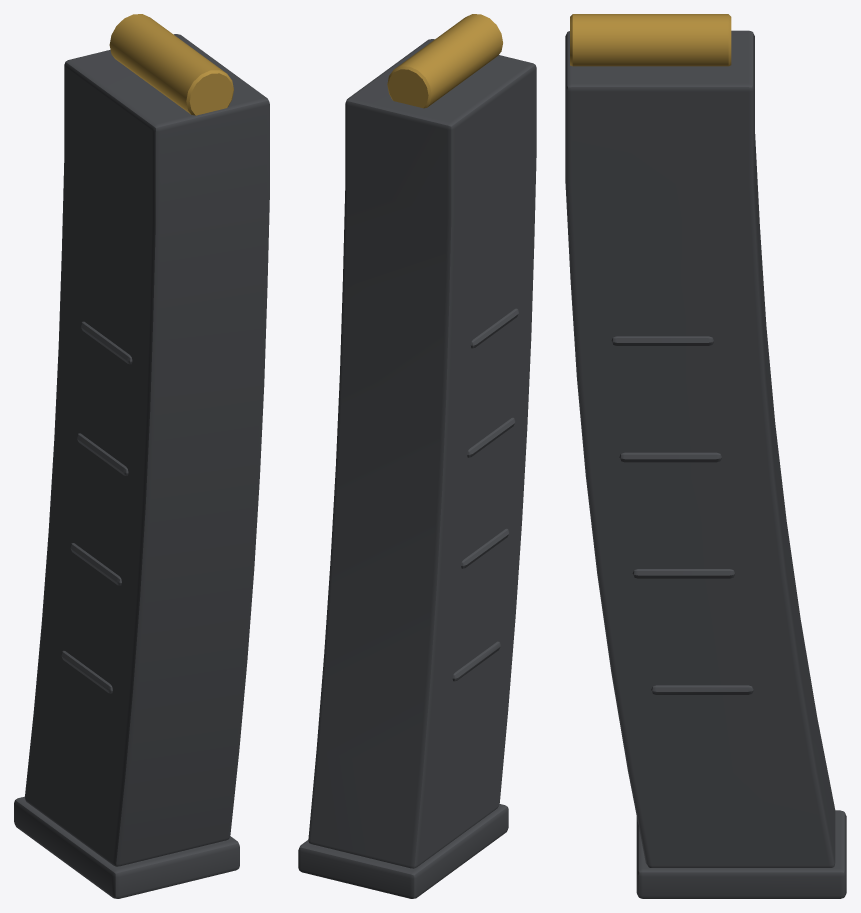
The model's file is mod_bastion_extended_mag.glb.
3 renders of one model, left to right at view 1: azimuth 30°, elevation 25°; view 2: azimuth 150°, elevation 25°; view 3: azimuth 270°, elevation 25°, orthographic. The views are drawn at different scales.
Parts seen in each view (by area): view 1: Magazine, MagazineRound; view 2: Magazine, MagazineRound; view 3: Magazine, MagazineRound.
Boxes of the visible parts, box(x1,y1,x2,y2) form: Magazine: box(14, 34, 269, 898); MagazineRound: box(109, 14, 233, 115); Magazine: box(298, 39, 536, 898); MagazineRound: box(387, 14, 502, 108); Magazine: box(565, 30, 846, 898); MagazineRound: box(570, 14, 731, 66).
Bounding box in the file's own units: 0.0294 × 0.1848 × 0.0552.
